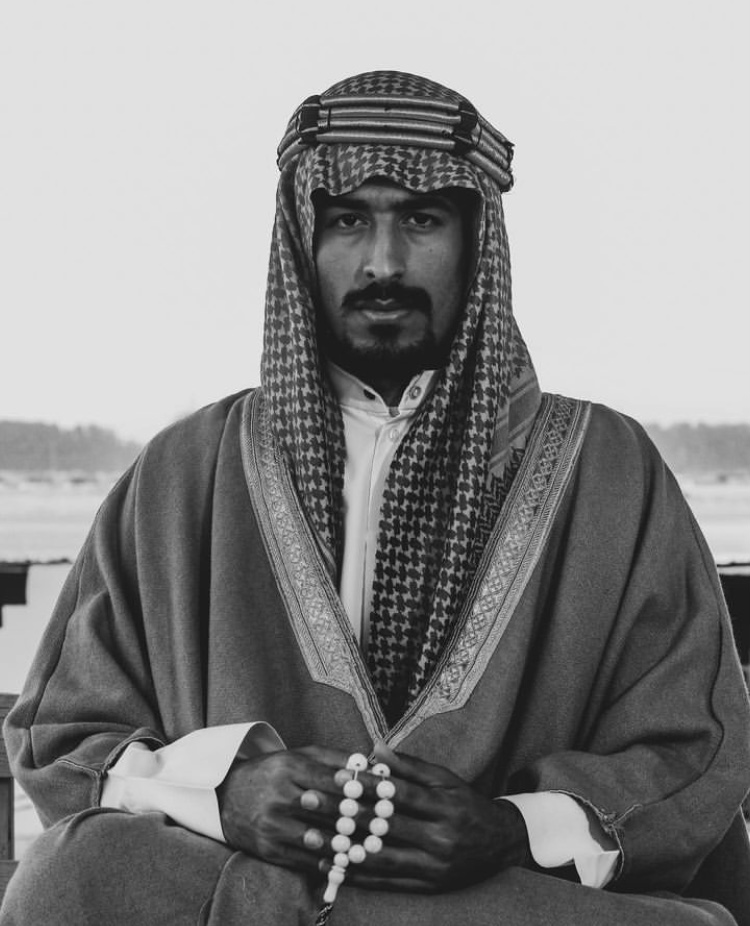Saudi_Founding_Day: (1, 66, 750, 926)
